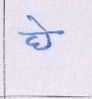e_matra: (26, 15, 48, 31)
